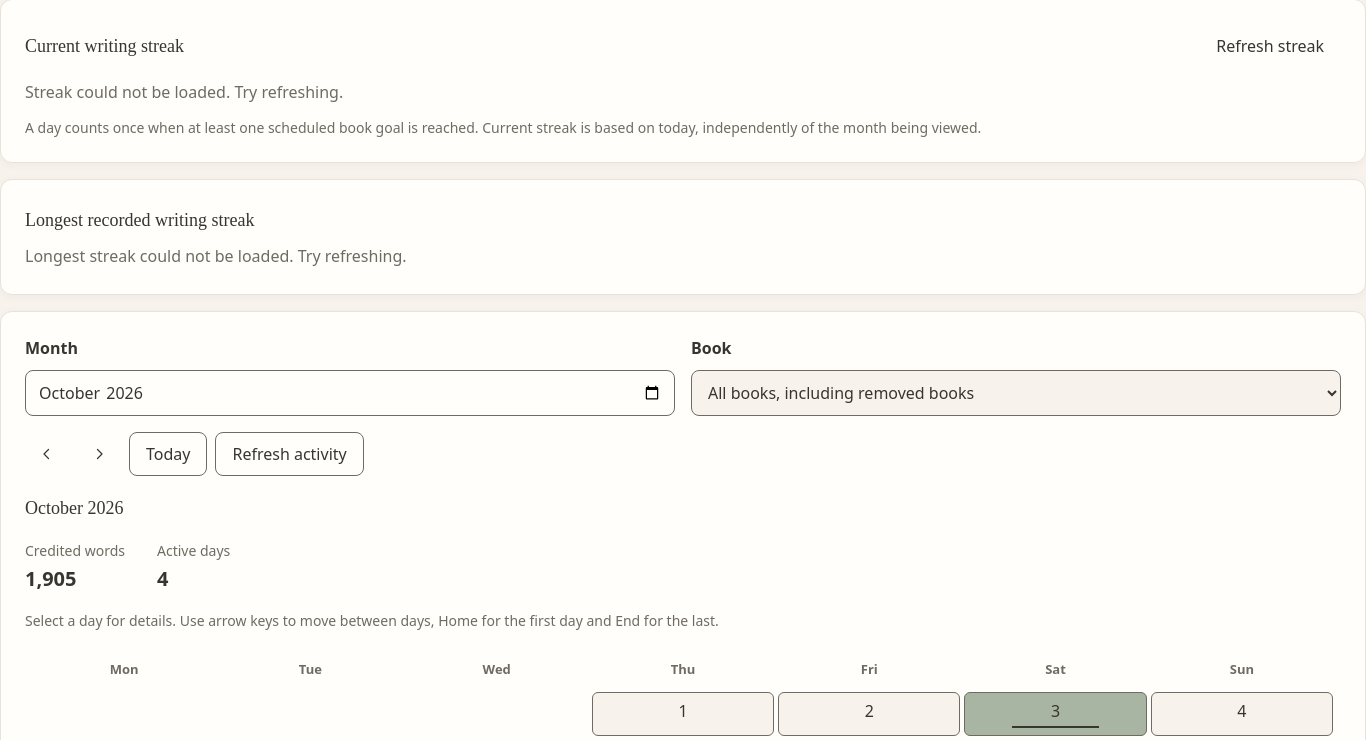
Test: loads actual totals, highlights today and shows historical goals and retained sources
This screenshot has width=1366, height=740.
Check: the element named "Month totals" shows "1,905", box [25,565,76,592]
What coordinates should you click on to do the following:
click the button named "Oct 3, 2026:"
I would click on:
 (1056, 714)
Its box is [964,692,1147,736].
(page scrolled)
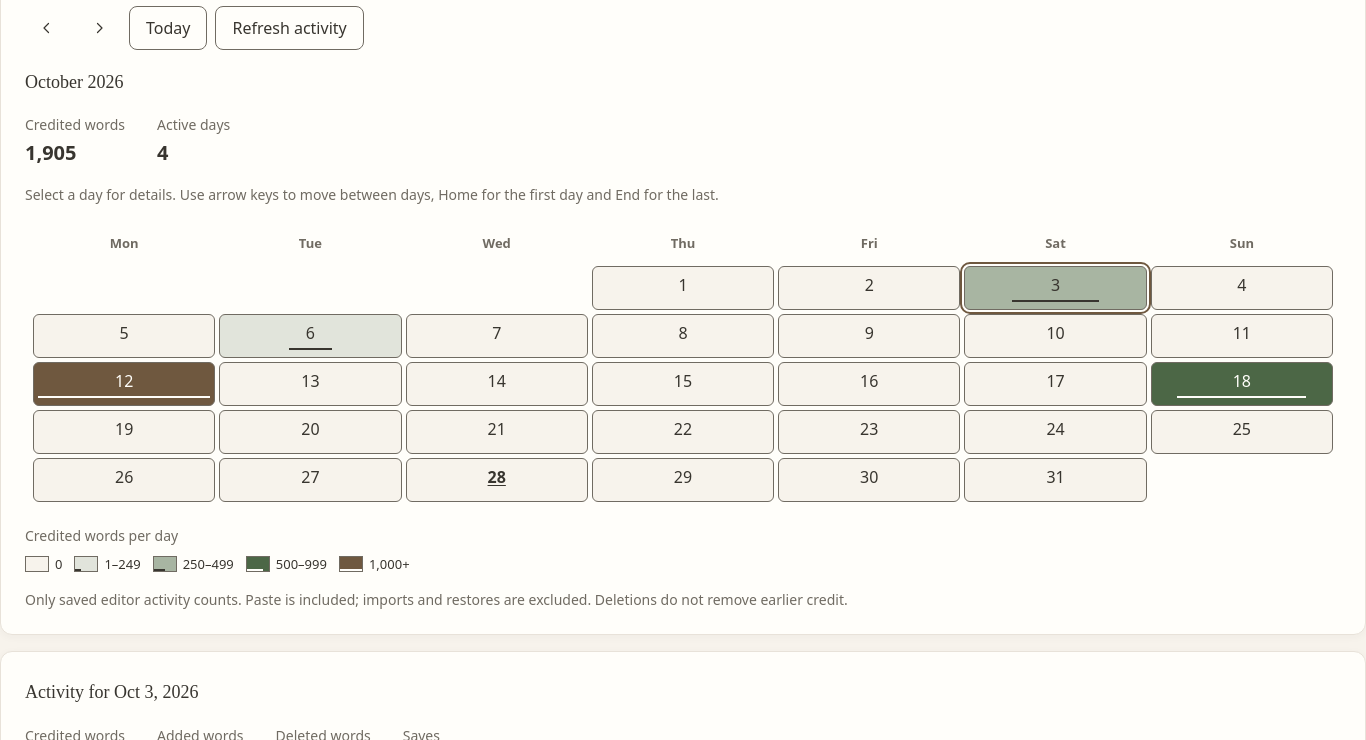
What coordinates should you click on to do the following:
click the button named "Oct 12, 2026:"
I would click on:
 (124, 384)
Its box is [33,362,215,406].
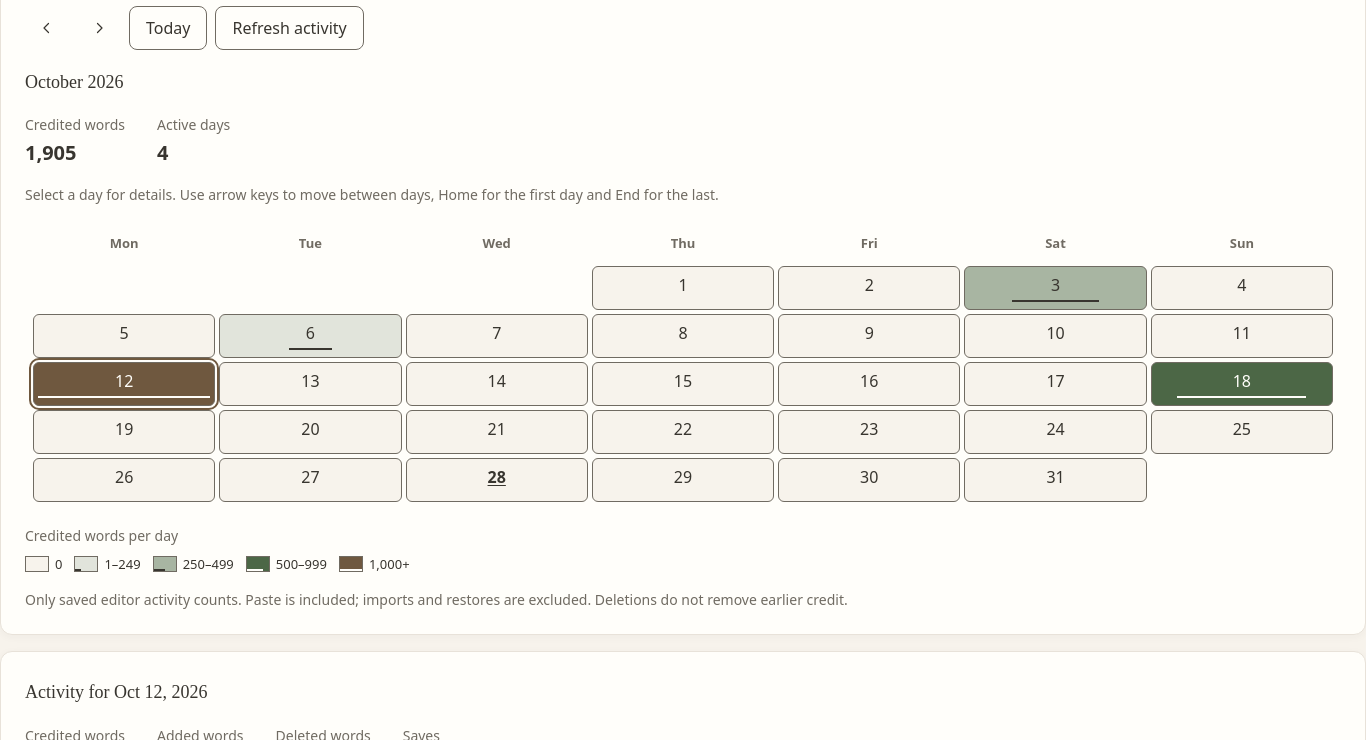
What coordinates should you click on to do the following:
click the button named "Oct 27, 2026:"
I would click on:
 (310, 480)
Its box is [219,458,402,502].
(page scrolled)
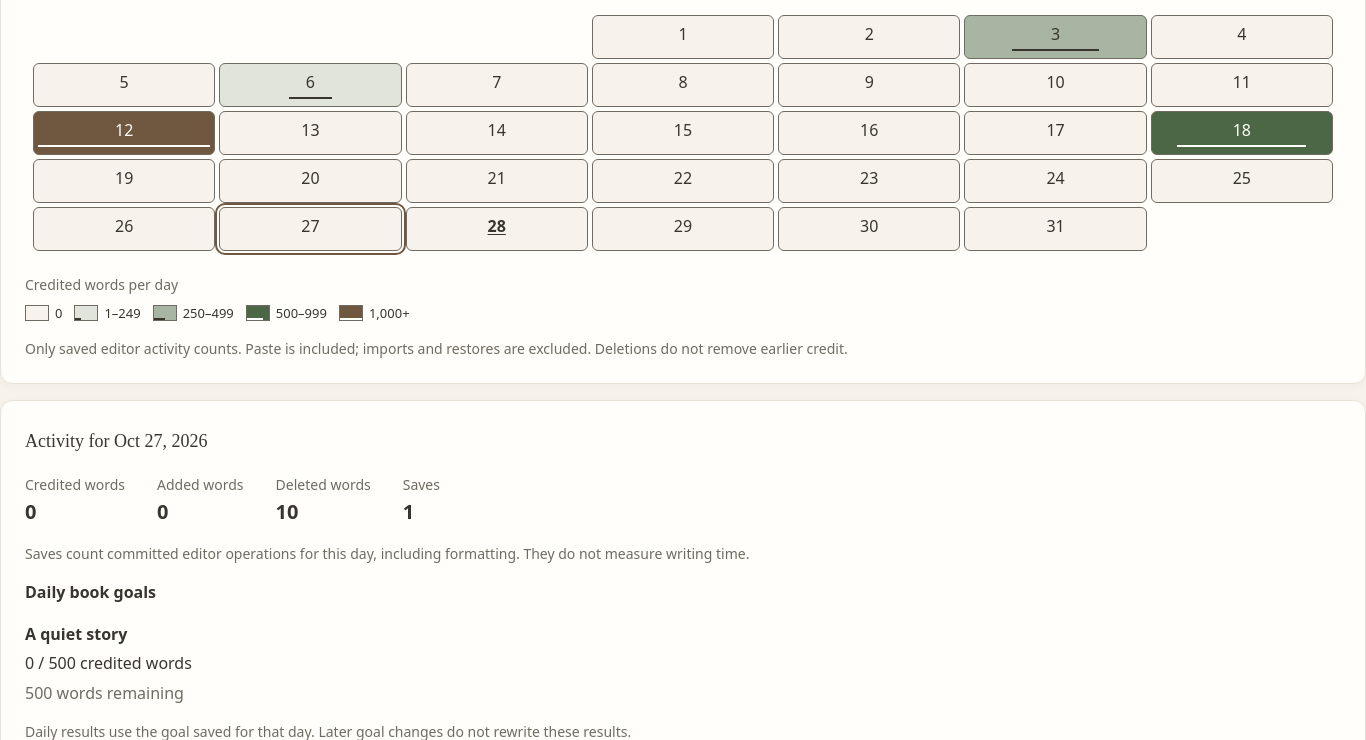
Check: the text "10" below "Deleted words" is shown, box [276,498,298,525]
Check: the element "Activity for" shows "500 words remaining", box [25,682,184,704]
